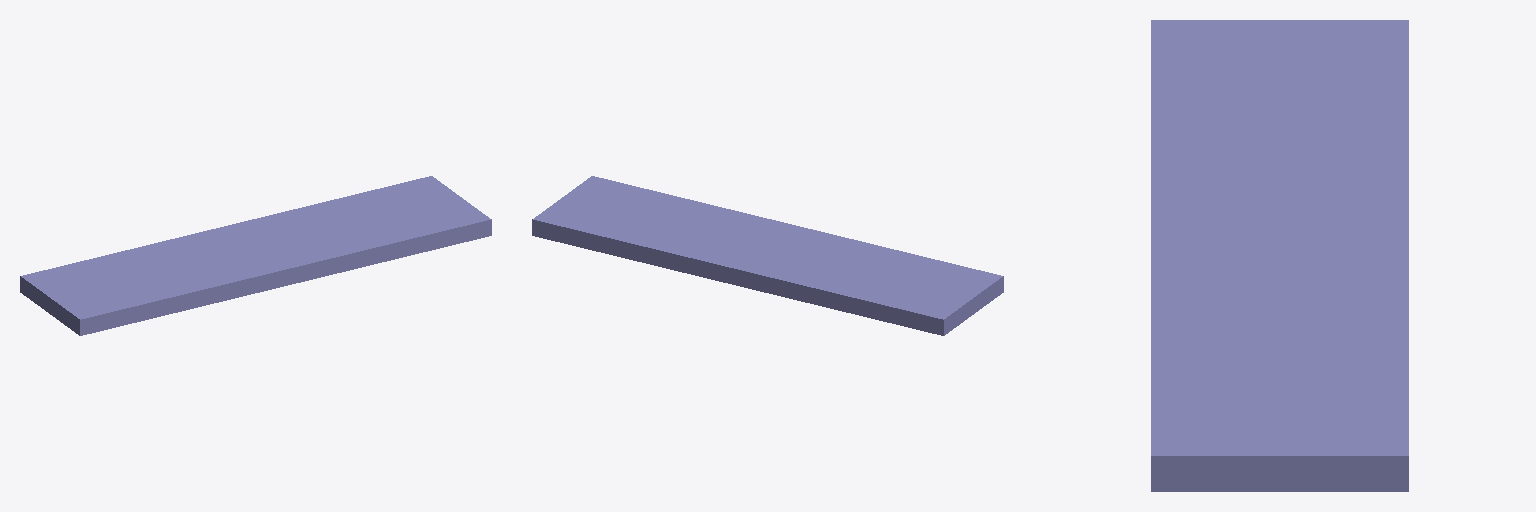
The robot description file, URDF, robot "box.urdf":
<?xml version="1.0" ?>
<robot name="box.urdf">
  <link name="baseLink">
    <contact>
      <lateral_friction value="1.0"/>
      <rolling_friction value="0.0001"/>
      <inertia_scaling value="3.0"/>
    </contact>
    <inertial>
      <origin rpy="0 0 0" xyz="0 0 0"/>
       <mass value="0.1"/>
       <inertia ixx="1" ixy="0" ixz="0" iyy="1" iyz="0" izz="1"/>
    </inertial>
    <visual>
      <origin rpy="0 0 0" xyz="0 0 0"/>
      <geometry>
        <!-- <box size="1.83 0.46 0.07"/> -->
        <mesh filename="box/box.obj" scale="1.83 0.46 0.07"/>
      </geometry>
      <material name="white">
        <color rgba="0.6 0.6 0.8 1"/>
      </material>
    </visual>
    <collision>
      <origin rpy="0 0 0" xyz="0 0 0"/>
      <geometry>
        <mesh filename="box/box.obj" scale="1.83 0.46 0.07"/>
	 	    <!-- <box size="1.83 0.46 0.07"/> -->
      </geometry>
    </collision>
  </link>
</robot>

--- What the picture shows (computed from the rendered views, not written in the file) ---
3 views of the same robot in one strip: view 1: azimuth 30°, elevation 25°; view 2: azimuth 150°, elevation 25°; view 3: azimuth 270°, elevation 25° (orthographic).
Robot: box.urdf — 1 links, 0 joints (none); root link baseLink; default pose: all joints at 0.
Links seen in each view (by area): view 1: baseLink; view 2: baseLink; view 3: baseLink.
Boxes of the visible links, left/top/right/bottom form: baseLink: left=20, top=176, right=491, bottom=335; baseLink: left=532, top=176, right=1003, bottom=335; baseLink: left=1151, top=20, right=1408, bottom=491.
Bounding box of the posed robot: 1.83 × 0.46 × 0.07 m (x, y, z).
1 mesh visuals loaded from 1 distinct referenced files (1 OBJ).
